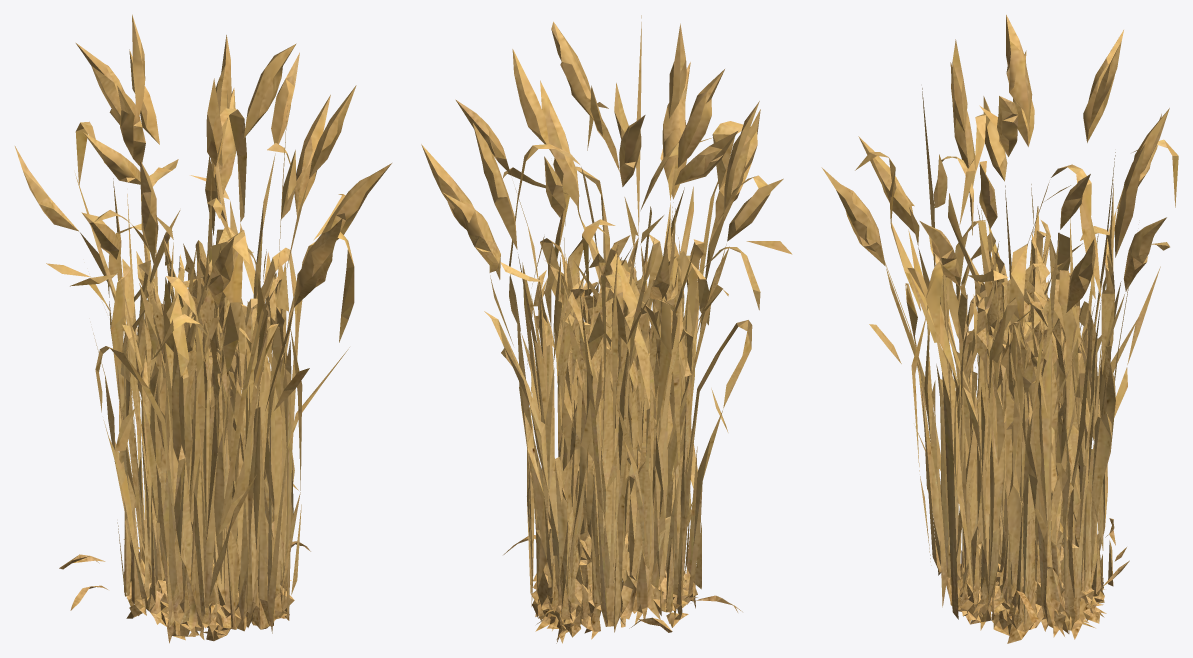
Rendered from plant-dry_grass-final.glb.
3 views of the same model, side by side, from view 1: azimuth 30°, elevation 25°; view 2: azimuth 150°, elevation 25°; view 3: azimuth 270°, elevation 25° (orthographic). The views are drawn at different scales.
Parts seen in each view (by area): view 1: output_unwrapped; view 2: output_unwrapped; view 3: output_unwrapped.
Part boxes in pixels (x1,y1,x2,y2): output_unwrapped: [15, 14, 391, 643]; output_unwrapped: [421, 15, 792, 643]; output_unwrapped: [821, 14, 1178, 643].
Bounding box in the file's own units: 0.3237 × 0.5658 × 0.3264.
1 material, 1 textured.
